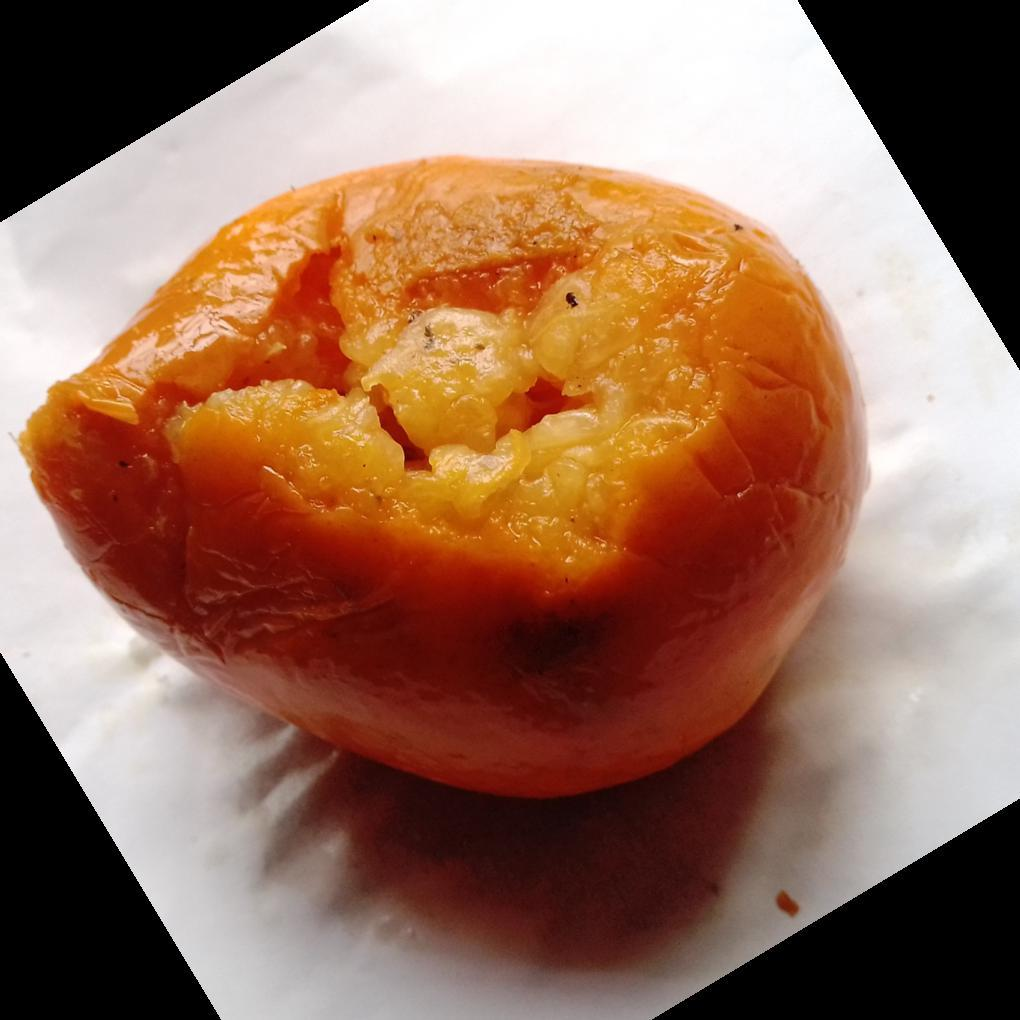FreshOrange: (17, 156, 870, 805)
